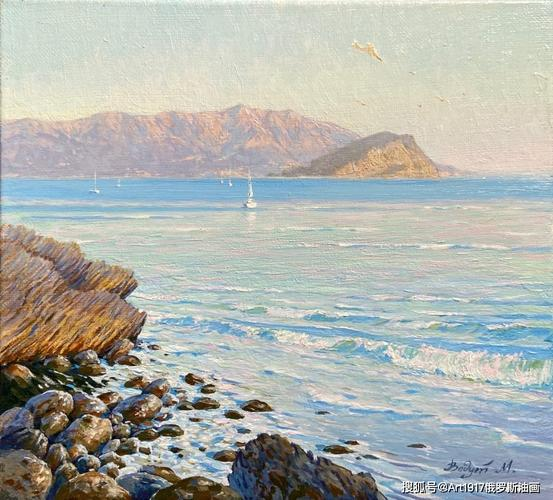mountain: (7, 71, 413, 177), (3, 226, 147, 380)
sea_river: (128, 177, 526, 436)
